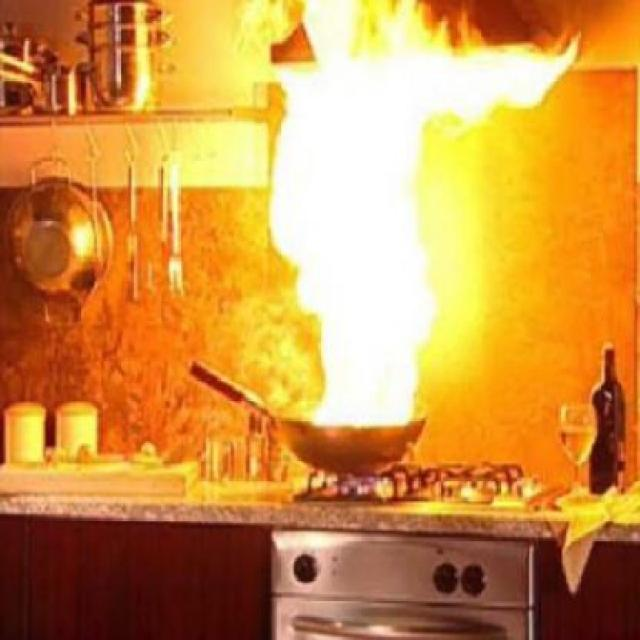Fire: (263, 6, 579, 410)
Smoke: (390, 0, 618, 48)
